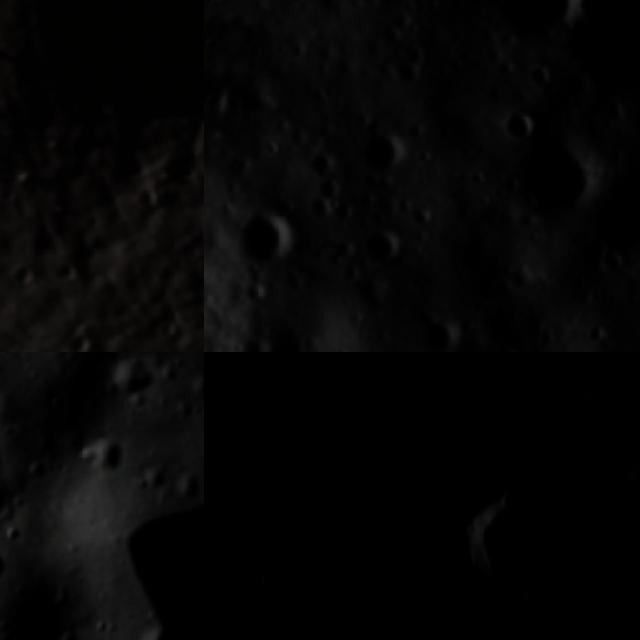crater: (0, 0, 204, 284), (452, 489, 565, 600), (501, 115, 612, 221), (540, 0, 640, 110), (371, 533, 453, 640), (222, 200, 304, 274), (581, 159, 640, 259), (483, 0, 584, 43), (353, 121, 413, 180), (488, 98, 546, 147), (358, 220, 410, 268), (252, 318, 319, 352), (416, 308, 467, 352), (587, 236, 630, 283), (50, 316, 106, 352), (84, 437, 130, 478), (214, 74, 237, 134), (0, 550, 12, 587)
